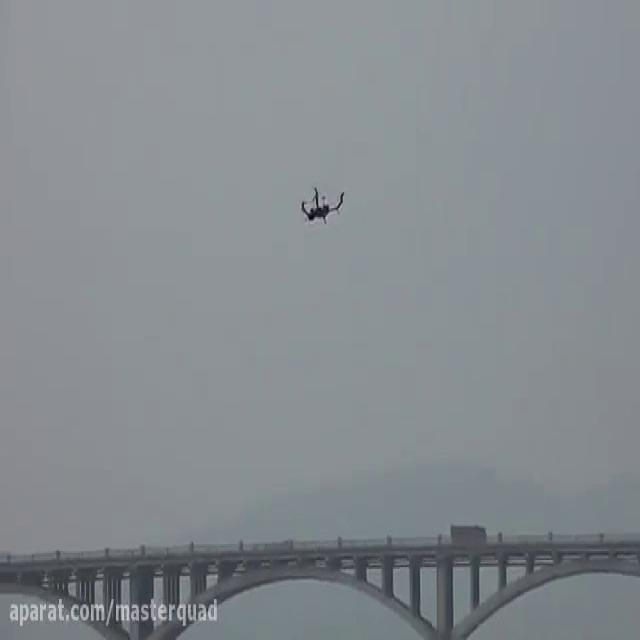drone: (295, 180, 350, 228)
